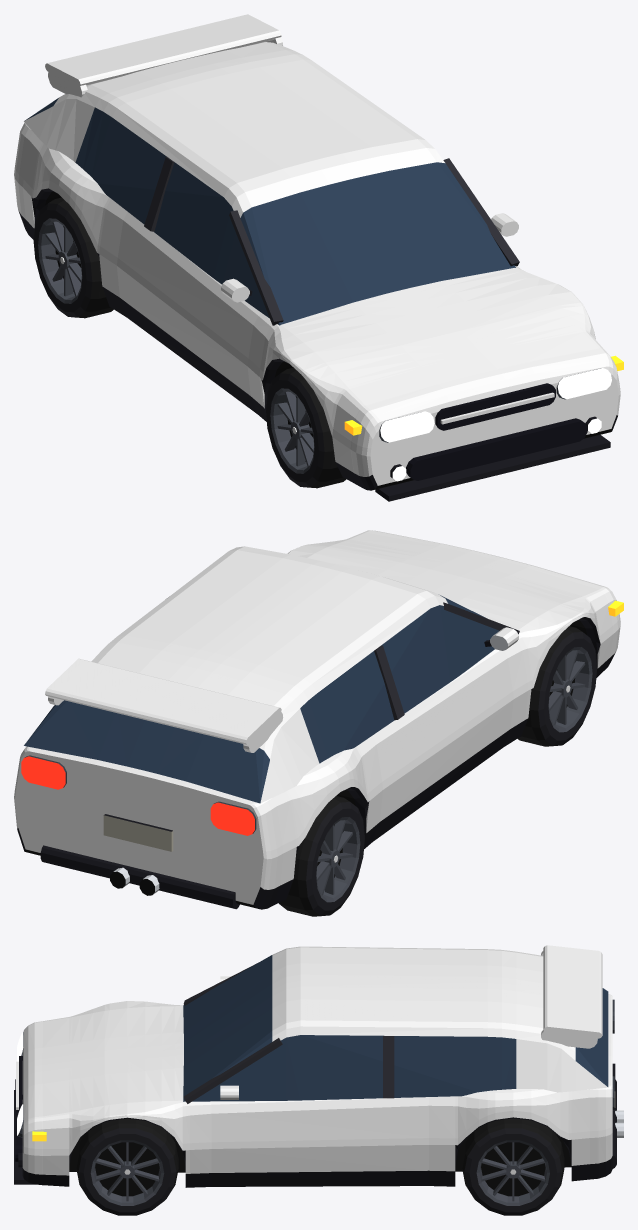
The model's file is hatch.glb.
3 renders of one model, top to bottom at view 1: azimuth 30°, elevation 25°; view 2: azimuth 150°, elevation 25°; view 3: azimuth 270°, elevation 25°, orthographic. The views are drawn at different scales.
Parts seen in each view (by area): view 1: paint, glass, stripe_a, accent, trim, trim_grille, rim_gunmetal (×2), tire_side (×2), stripe_b, trim_soft, tire (×2), headlight; view 2: paint, glass, stripe_a, accent, trim, rim_gunmetal (×2), tire_side (×2), stripe_b, tire (×2), taillight, plate, trim_soft (+1 smaller); view 3: paint, glass, stripe_a, trim, tire_side (×2), accent, rim_gunmetal (×2), trim_under (×3), stripe_b, tire (×2), trim_soft, trim_grille.
Boxes of the visible parts, box(x1,y1,x2,y2) form: paint: box(14, 42, 620, 485); glass: box(25, 98, 515, 325); stripe_a: box(153, 57, 538, 406); accent: box(45, 14, 554, 424); trim: box(18, 188, 617, 501); trim_grille: box(406, 383, 587, 480); rim_gunmetal (×2): box(38, 218, 314, 473); tire_side (×2): box(33, 203, 324, 487); stripe_b: box(14, 167, 620, 456); trim_soft: box(144, 157, 519, 325); tire (×2): box(48, 197, 346, 488); headlight: box(380, 368, 611, 481); paint: box(14, 530, 620, 904); glass: box(24, 595, 499, 803); stripe_a: box(95, 544, 533, 786); accent: box(45, 658, 283, 752); trim: box(17, 617, 615, 909); rim_gunmetal (×2): box(316, 647, 592, 902); tire_side (×2): box(306, 632, 597, 915); stripe_b: box(14, 614, 620, 859); tire (×2): box(279, 626, 582, 916); taillight: box(21, 756, 254, 835); plate: box(103, 815, 173, 851); trim_soft: box(374, 602, 519, 720); paint: box(22, 946, 612, 1175); glass: box(183, 955, 608, 1101); stripe_a: box(22, 963, 612, 1094); trim: box(14, 1063, 616, 1187); tire_side (×2): box(78, 1128, 562, 1215); accent: box(16, 945, 602, 1109); rim_gunmetal (×2): box(90, 1140, 549, 1205); trim_under (×3): box(69, 1133, 571, 1196); stripe_b: box(22, 1110, 612, 1155); tire (×2): box(76, 1118, 564, 1199); trim_soft: box(183, 963, 394, 1103); trim_grille: box(15, 1056, 22, 1161).
Bounding box in the file's own units: 1.94 × 1.41 × 4.3.
